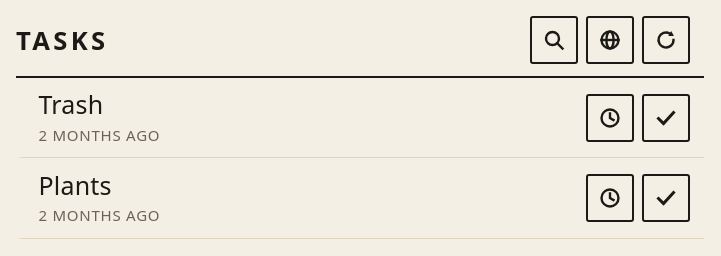
Test: App › public filter › brings the private chores back when it is turned off
Expected: the text "Plants" is shown, [38,168,112,202]
Click the button named "public": (610, 40) [586,16,634,64]
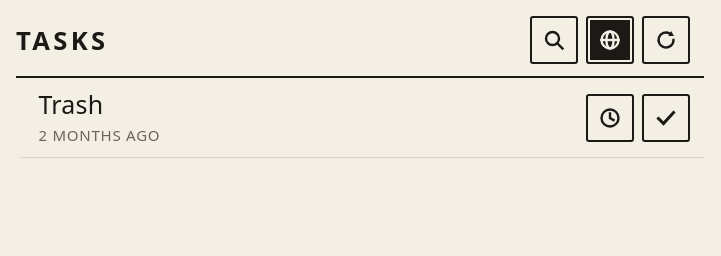
Click the button named "public": (610, 40) [586,16,634,64]
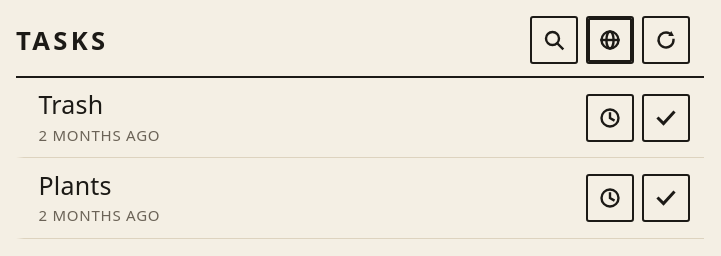
Expected: the text "Plants" is shown, [38,168,112,202]
